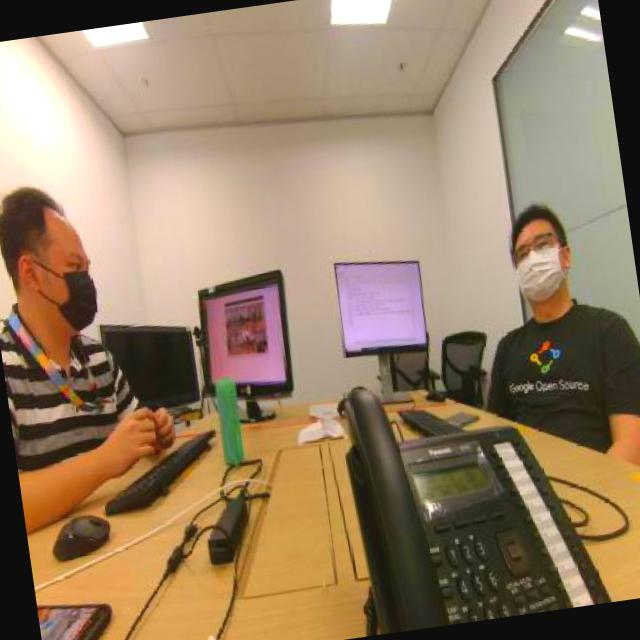Person: (464, 142, 630, 408), (0, 152, 129, 494)
